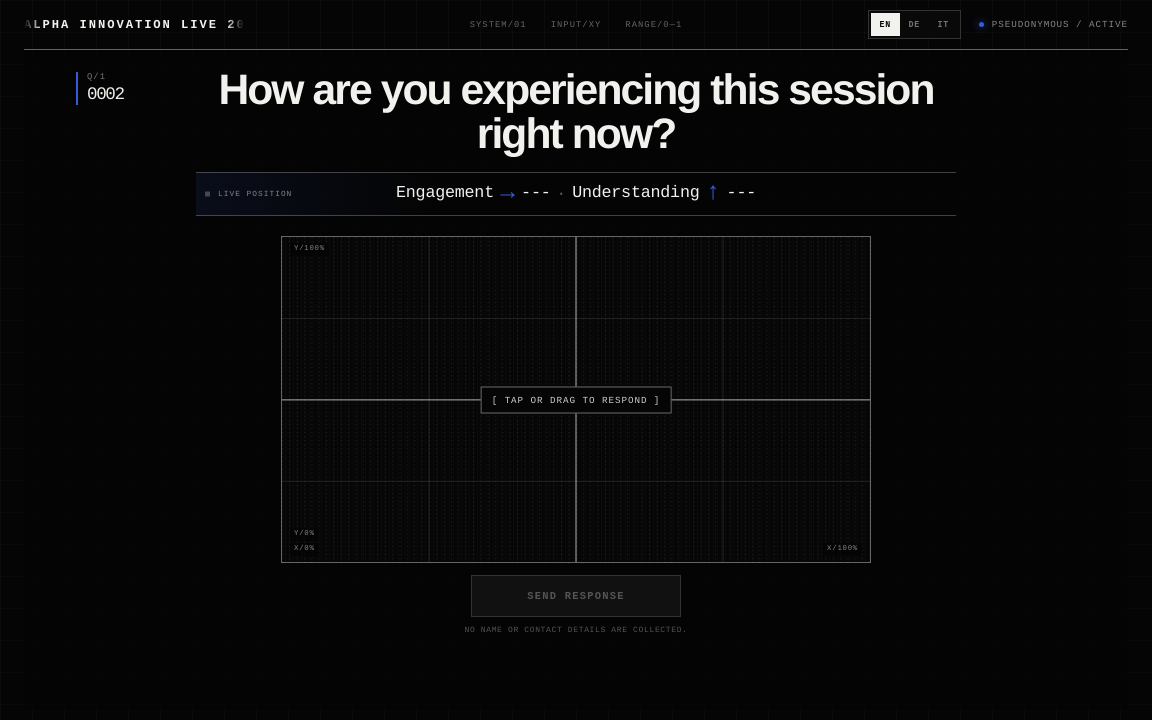
it: App › advances each browser through ordered questions and stores local progress
The image size is (1152, 720).
Expected: the heading "How are you experiencing this session right now?" is shown, [186,68,966,157]
Press the mouse on the slider with test id "coordinate-surface" at (576, 400), box [281,236,871,564]
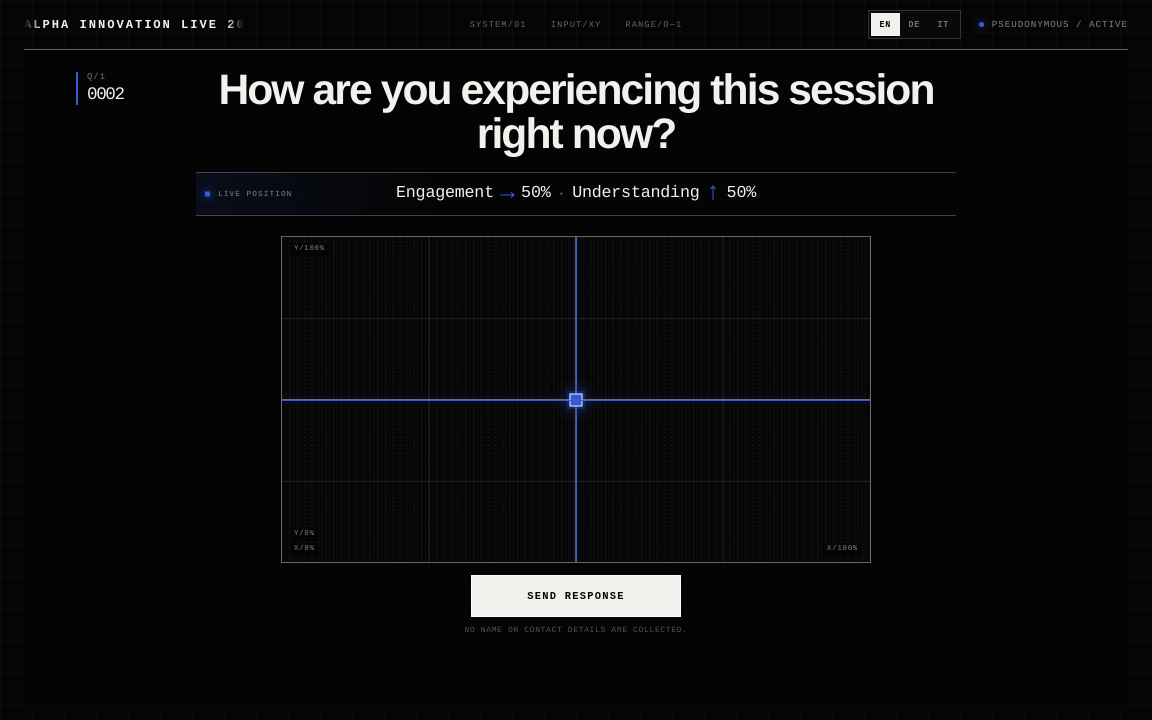
Click the button "Send response" at (576, 596), box [471,575,681,617]
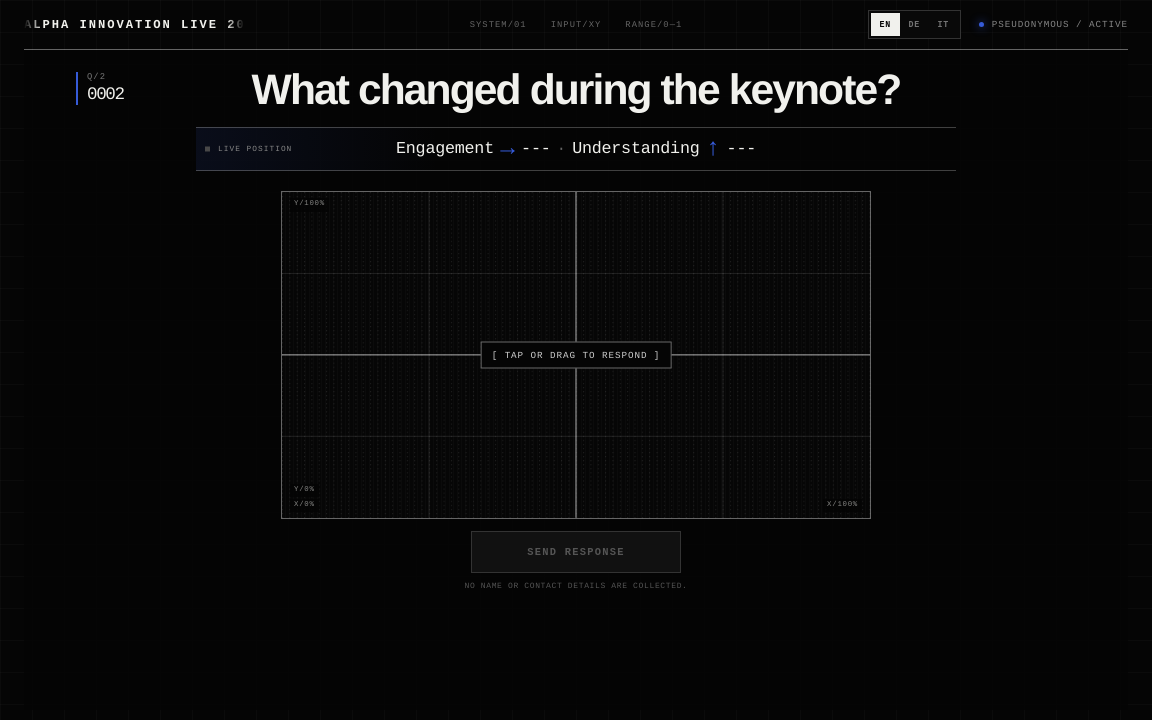
Expected: the heading "What changed during the keynote?" is shown, [252,66,900,114]
